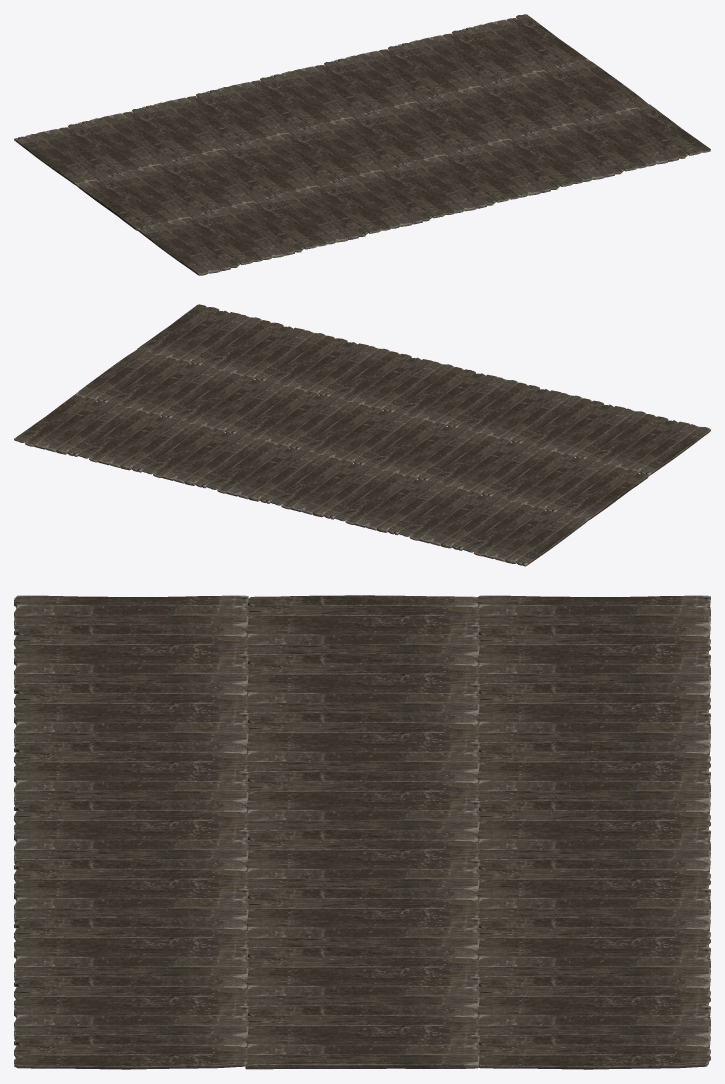
Rendered from intact_bridge_span.glb.
3 views of the same model, one above another, from view 1: azimuth 30°, elevation 25°; view 2: azimuth 150°, elevation 25°; view 3: azimuth 270°, elevation 25° (orthographic). The views are drawn at different scales.
Parts seen in each view (by area): view 1: IntactBridgeSpan; view 2: IntactBridgeSpan; view 3: IntactBridgeSpan.
Part boxes in pixels (x1=…): IntactBridgeSpan: x1=14, y1=14, x2=710, y2=275; IntactBridgeSpan: x1=14, y1=304, x2=710, y2=566; IntactBridgeSpan: x1=14, y1=595, x2=710, y2=1069.
Size of the model in its own units: 12.01 by 0.07 by 7.54.
Materials: 1 (1 with a texture image).
